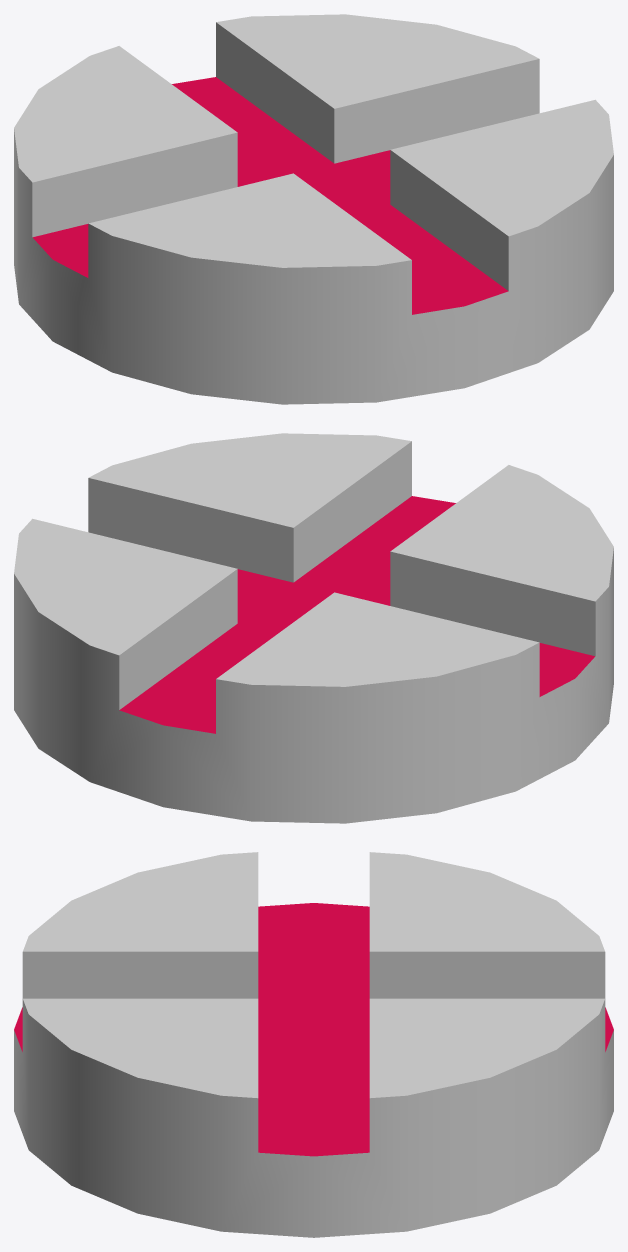
Rendered from ANTIBIOTIC.fbx.
3 renders of one model, top to bottom at view 1: azimuth 30°, elevation 25°; view 2: azimuth 150°, elevation 25°; view 3: azimuth 270°, elevation 25°, orthographic.
Visible parts, largest first — view 1: pCylinder3; view 2: pCylinder3; view 3: pCylinder3.
Boxes of the visible parts, box(x1,y1,x2,y2) form: pCylinder3: box(14, 14, 613, 404); pCylinder3: box(14, 433, 613, 823); pCylinder3: box(14, 852, 613, 1237).
Size of the model in its own units: 8 by 2 by 8.
